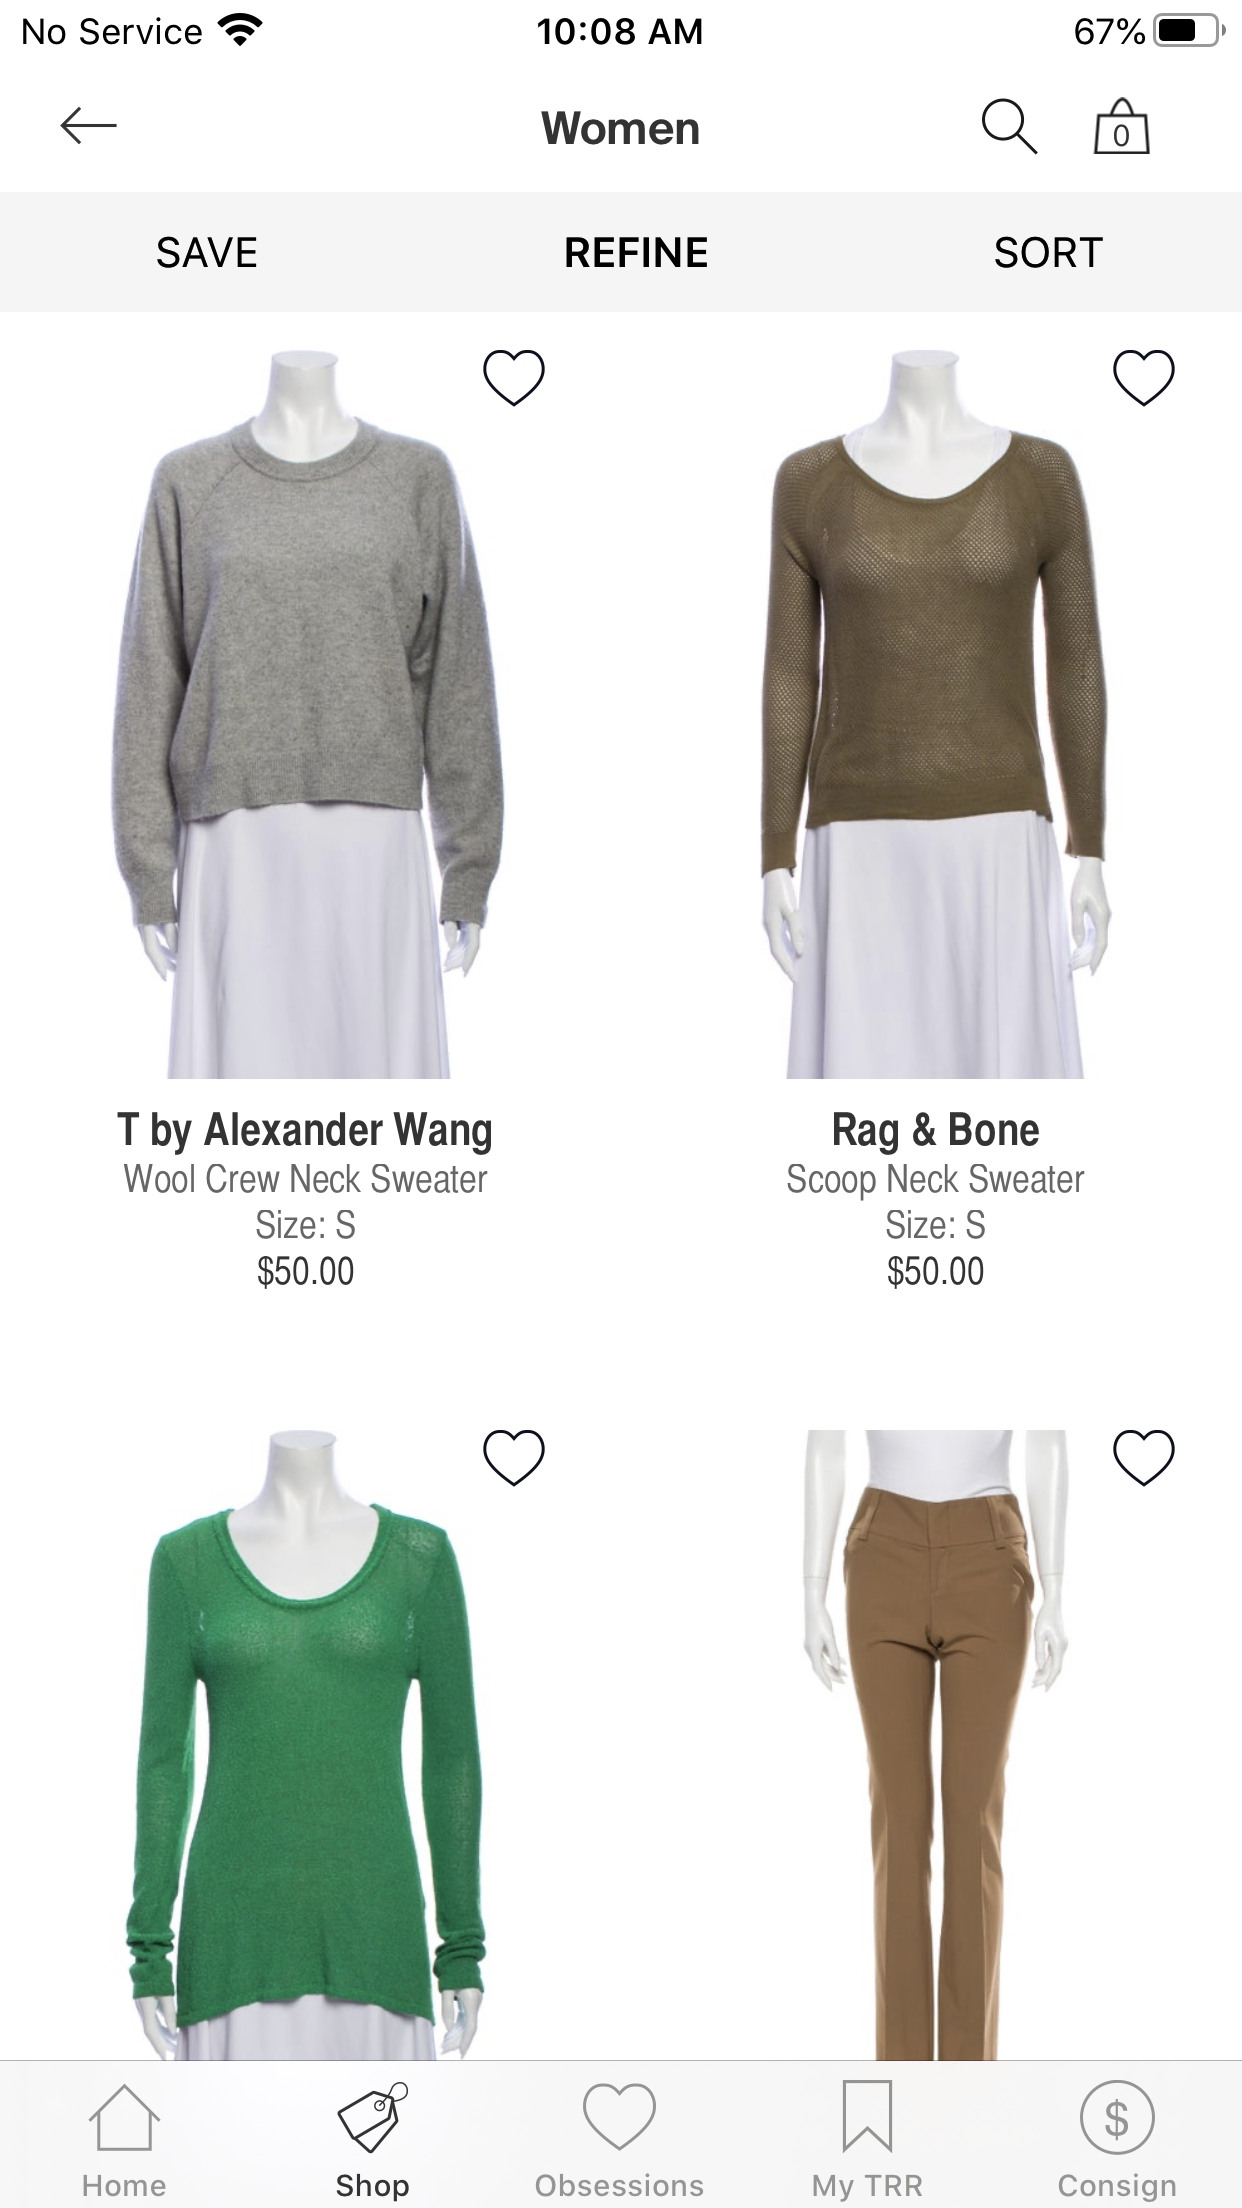Icon: (1080, 2081, 1156, 2153), (337, 2082, 408, 2153), (582, 2084, 657, 2150), (88, 2084, 161, 2150), (842, 2081, 893, 2153), (482, 1430, 544, 1488), (1113, 1430, 1175, 1488), (1113, 350, 1175, 406), (482, 350, 544, 406), (983, 99, 1037, 155), (61, 108, 117, 144)
Image: (111, 350, 505, 1080), (760, 350, 1112, 1080), (124, 1430, 487, 2059), (804, 1430, 1069, 2059)
Text: (117, 1112, 491, 1156), (787, 1165, 1084, 1201), (123, 1165, 488, 1193), (834, 1112, 1039, 1156), (541, 111, 699, 144), (566, 237, 707, 267), (535, 2173, 704, 2196), (995, 237, 1102, 268), (1059, 2172, 1175, 2200), (1093, 97, 1149, 155), (889, 1256, 984, 1289), (258, 1256, 353, 1289), (158, 237, 256, 268), (813, 2175, 922, 2202), (886, 1210, 986, 1239), (256, 1210, 355, 1239), (337, 2173, 409, 2202), (83, 2175, 165, 2197)
UpperTaskBar: (2, 2, 1242, 49)
